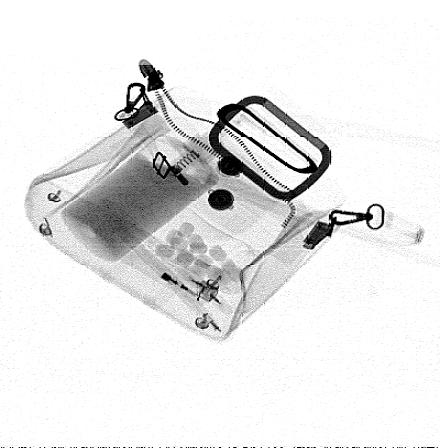Lighter: (135, 252, 222, 302)
